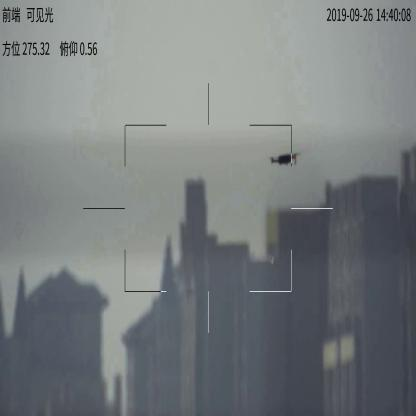uav: (267, 151, 300, 169)
